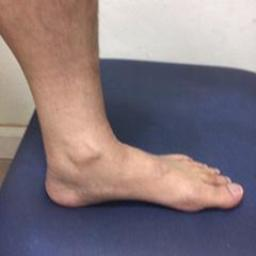Medial View -Left Foot-: (30, 107, 251, 228)
